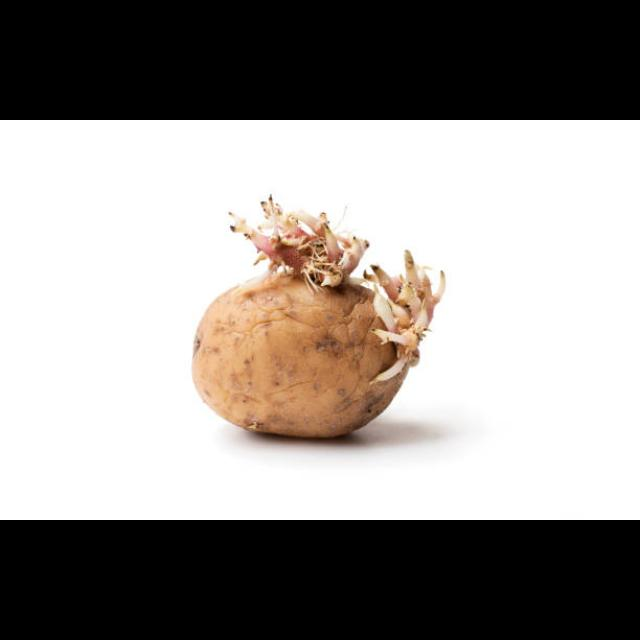Sprouted potato: (188, 187, 440, 449)
